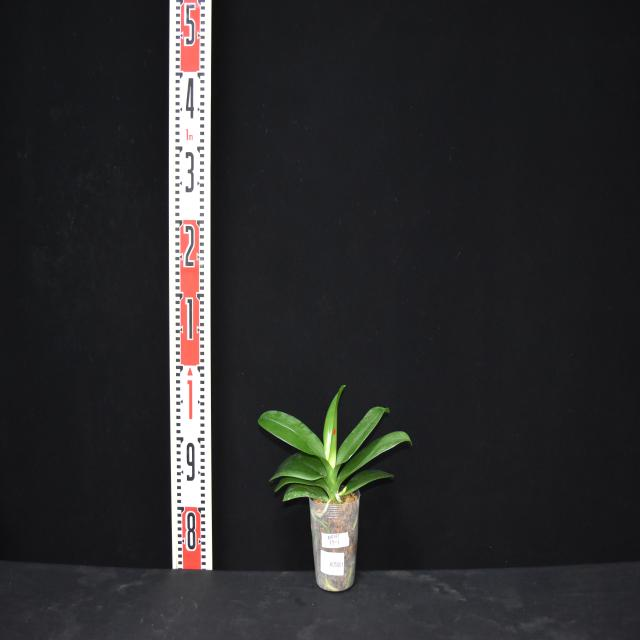leaf: (334, 431, 412, 487), (331, 407, 389, 480), (258, 410, 327, 465), (323, 385, 345, 470), (269, 453, 325, 481), (339, 470, 394, 493), (275, 478, 329, 495), (282, 485, 328, 503)
